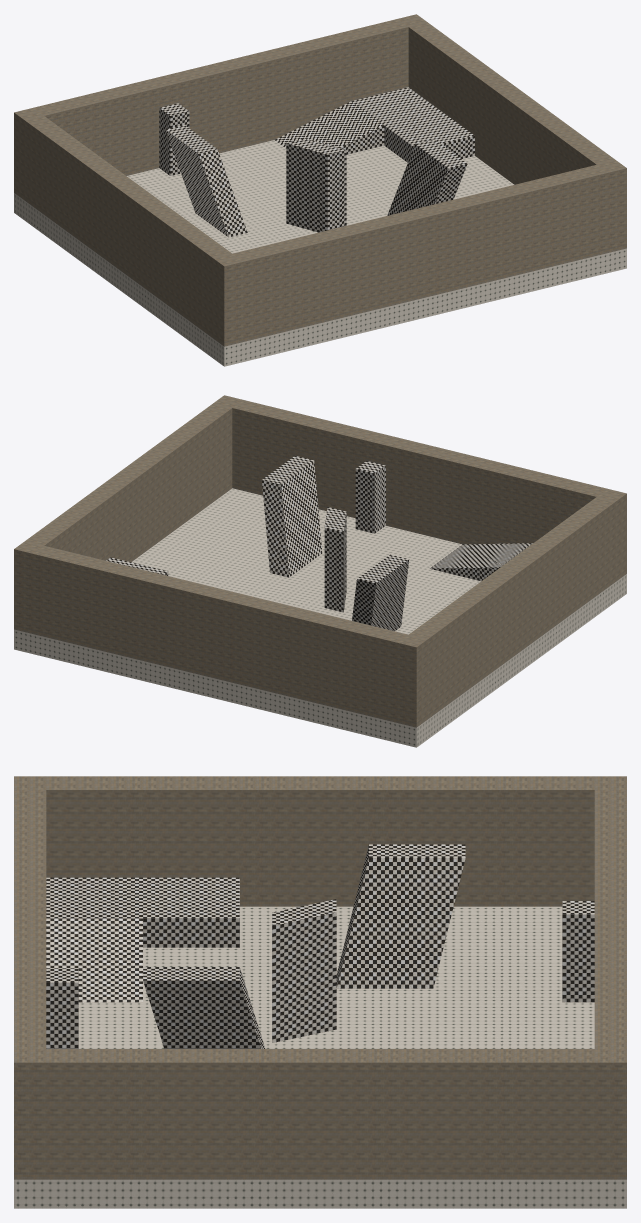
Rendered from gameworld.glb.
The picture shows the model from 3 angles, top to bottom: view 1: azimuth 30°, elevation 25°; view 2: azimuth 150°, elevation 25°; view 3: azimuth 270°, elevation 25°; orthographic projection. The views are drawn at different scales.
Visible parts, largest first — view 1: entity0_brush3-col, entity0_brush1-col, entity0_brush0-col, entity0_brush2-col, entity0_brush4-col, entity0_brush13-col, entity0_brush8-col, entity0_brush5-col, entity0_brush10-col, entity0_brush9-col, entity0_brush11-col; view 2: entity0_brush1-col, entity0_brush0-col, entity0_brush3-col, entity0_brush2-col, entity0_brush4-col, entity0_brush10-col, entity0_brush5-col, entity0_brush13-col, entity0_brush6-col, entity0_brush12-col; view 3: entity0_brush4-col, entity0_brush2-col, entity0_brush0-col, entity0_brush5-col, entity0_brush7-col, entity0_brush1-col, entity0_brush3-col, entity0_brush13-col, entity0_brush10-col, entity0_brush6-col, entity0_brush11-col, entity0_brush12-col.
Part boxes in pixels (left/top/right/bottom): entity0_brush3-col: left=233, top=164, right=607, bottom=341; entity0_brush1-col: left=14, top=19, right=408, bottom=200; entity0_brush0-col: left=14, top=140, right=626, bottom=366; entity0_brush2-col: left=25, top=116, right=243, bottom=346; entity0_brush4-col: left=398, top=14, right=626, bottom=252; entity0_brush13-col: left=286, top=138, right=346, bottom=232; entity0_brush8-col: left=351, top=87, right=474, bottom=162; entity0_brush5-col: left=165, top=125, right=247, bottom=237; entity0_brush10-col: left=387, top=139, right=467, bottom=215; entity0_brush9-col: left=275, top=101, right=384, bottom=154; entity0_brush11-col: left=159, top=103, right=189, bottom=175; entity0_brush1-col: left=33, top=545, right=427, bottom=727; entity0_brush0-col: left=14, top=488, right=626, bottom=747; entity0_brush3-col: left=232, top=400, right=607, bottom=544; entity0_brush2-col: left=409, top=489, right=626, bottom=719; entity0_brush4-col: left=14, top=395, right=242, bottom=633; entity0_brush10-col: left=262, top=455, right=322, bottom=577; entity0_brush5-col: left=352, top=554, right=409, bottom=631; entity0_brush13-col: left=324, top=507, right=346, bottom=612; entity0_brush6-col: left=429, top=543, right=532, bottom=581; entity0_brush12-col: left=355, top=461, right=385, bottom=533; entity0_brush4-col: left=14, top=1049, right=626, bottom=1179; entity0_brush2-col: left=14, top=776, right=594, bottom=906; entity0_brush0-col: left=14, top=906, right=626, bottom=1208; entity0_brush5-col: left=336, top=844, right=465, bottom=988; entity0_brush7-col: left=46, top=877, right=239, bottom=947; entity0_brush1-col: left=594, top=776, right=626, bottom=1048; entity0_brush3-col: left=14, top=790, right=46, bottom=1048; entity0_brush13-col: left=272, top=899, right=336, bottom=1042; entity0_brush10-col: left=143, top=967, right=265, bottom=1048; entity0_brush6-col: left=46, top=918, right=142, bottom=1002; entity0_brush11-col: left=562, top=901, right=594, bottom=1002; entity0_brush12-col: left=46, top=969, right=78, bottom=1048.
Size of the model in its own units: 42 by 10 by 38.
3 materials, 3 textured.
